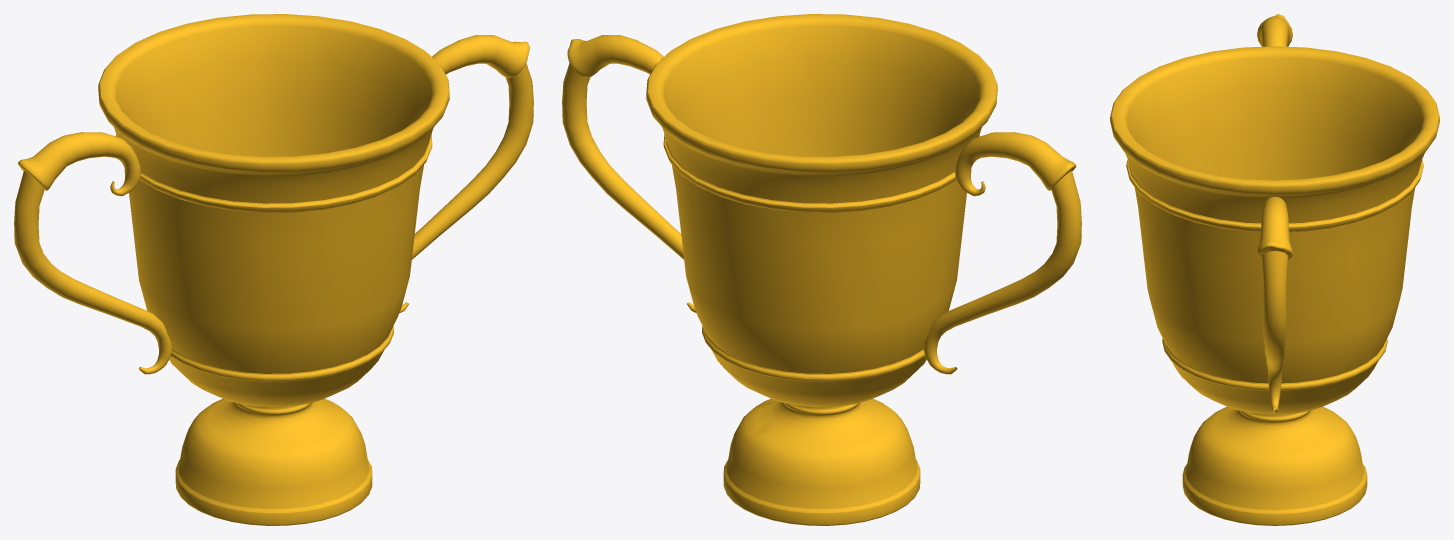
Rendered from trophyCompressed.glb.
The picture shows the model from 3 angles, left to right: view 1: azimuth 30°, elevation 25°; view 2: azimuth 150°, elevation 25°; view 3: azimuth 270°, elevation 25°; orthographic projection. The views are drawn at different scales.
Parts seen in each view (by area): view 1: JinBei_001; view 2: JinBei_001; view 3: JinBei_001.
Boxes of the visible parts, x1,y1,x2,y2 form: JinBei_001: (14, 14, 533, 525); JinBei_001: (562, 14, 1081, 525); JinBei_001: (1110, 14, 1439, 525).
Bounding box in the file's own units: 6.04 × 4.46 × 3.57.
1 material, 1 textured.
